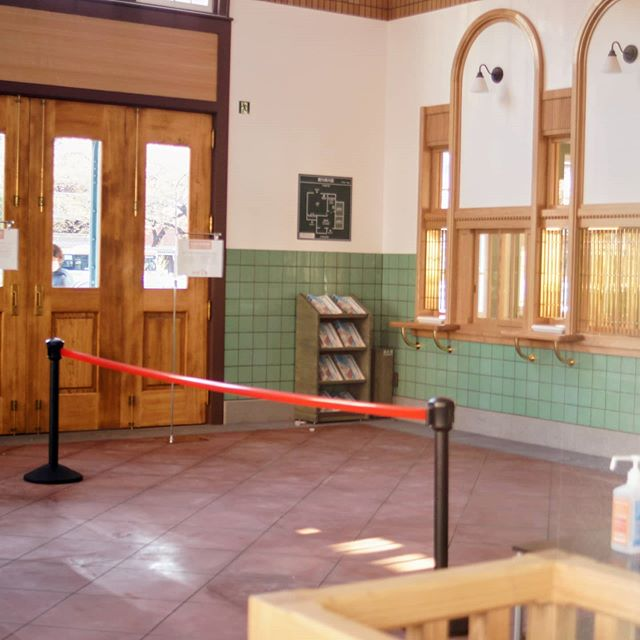door: (26, 107, 220, 422)
